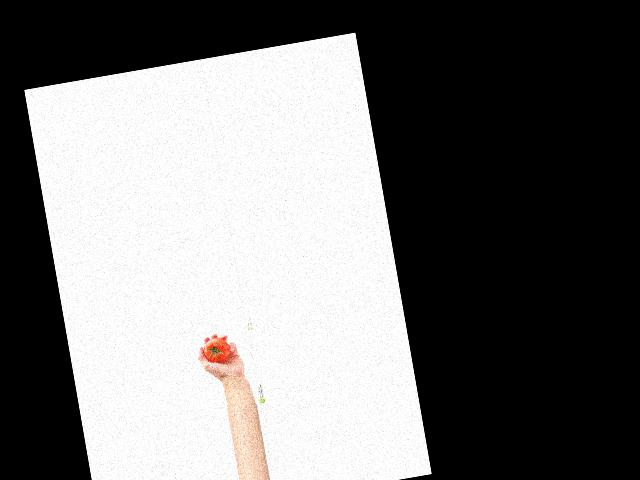tomato: (202, 335, 232, 364)
